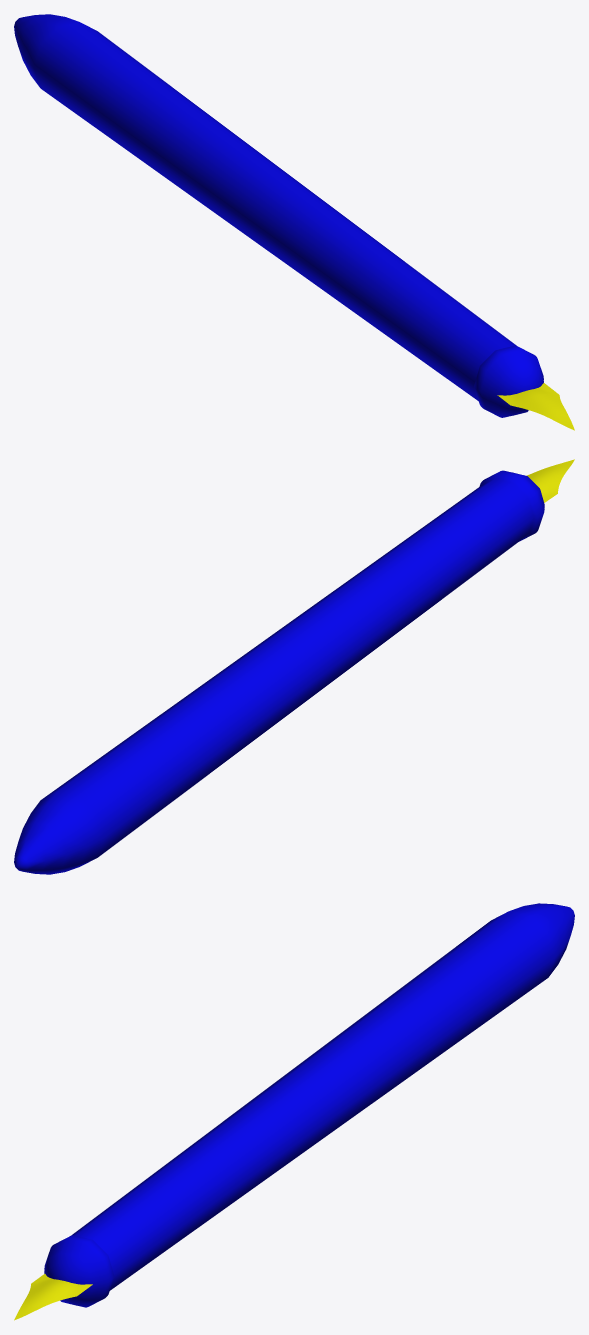
Rendered from FO_Pen.fbx.
The picture shows the model from 3 angles, top to bottom: view 1: azimuth 30°, elevation 25°; view 2: azimuth 150°, elevation 25°; view 3: azimuth 330°, elevation 25°; orthographic projection.
Parts seen in each view (by area): view 1: Pen; view 2: Pen; view 3: Pen.
Part boxes in pixels (<box>): Pen: <box>14,14,574,430</box>; Pen: <box>14,459,574,874</box>; Pen: <box>14,903,574,1320</box>.
Size of the model in its own units: 0.00433 by 0.00412 by 0.0592.
